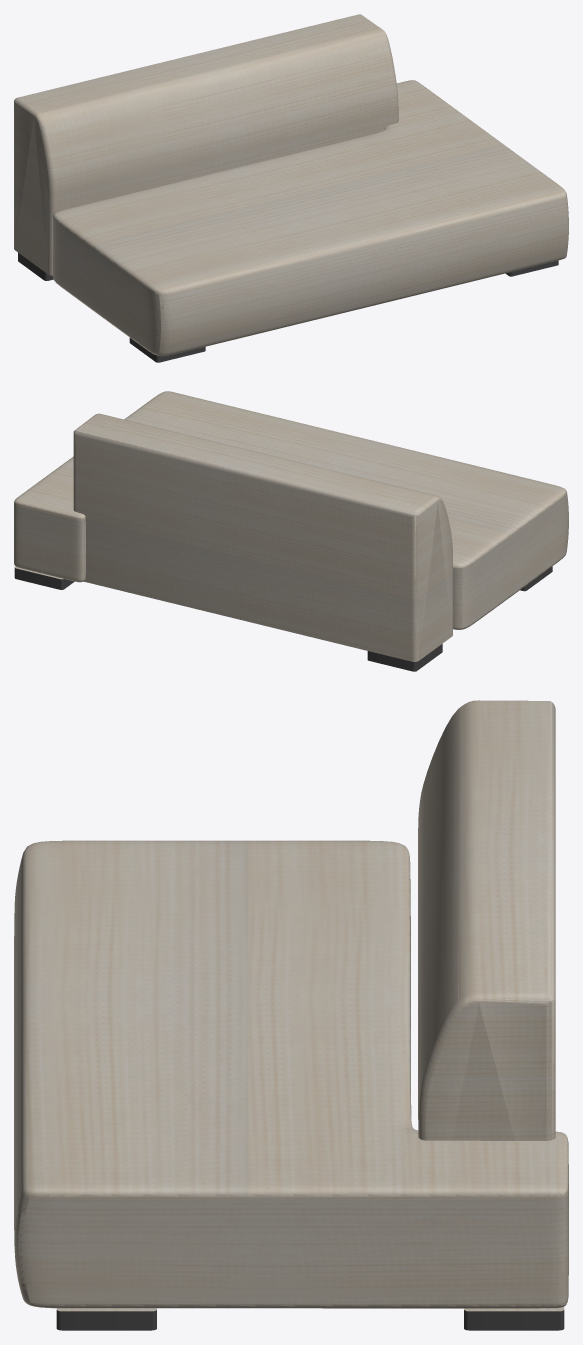
The model's file is Polantis-Zero-3D.FBX.
3 views of the same model, one above another, from view 1: azimuth 30°, elevation 25°; view 2: azimuth 150°, elevation 25°; view 3: azimuth 270°, elevation 25° (orthographic). The views are drawn at different scales.
Visible parts, largest first — view 1: Zero; view 2: Zero; view 3: Zero.
Boxes of the visible parts, left/top/right/bottom form: Zero: left=14, top=14, right=568, bottom=362; Zero: left=14, top=391, right=568, bottom=671; Zero: left=14, top=700, right=568, bottom=1330.
Bounding box in the file's own units: 1.18 × 0.7841 × 0.4451.
2 materials, 1 textured.
